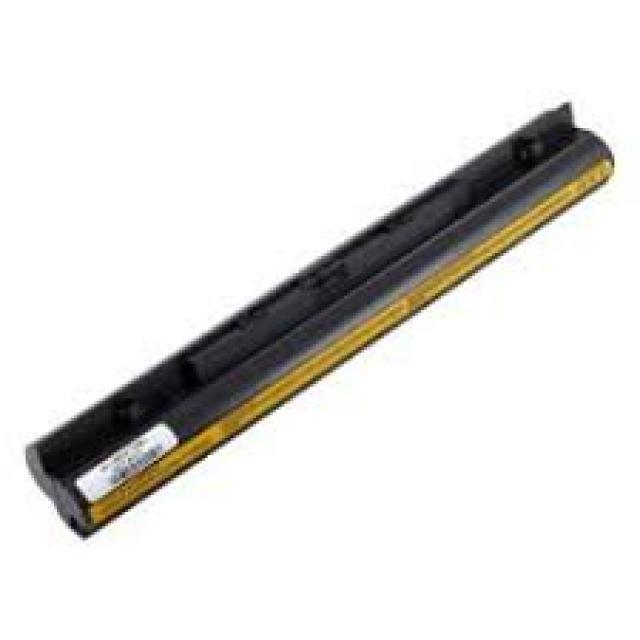battery: (25, 90, 616, 544)
